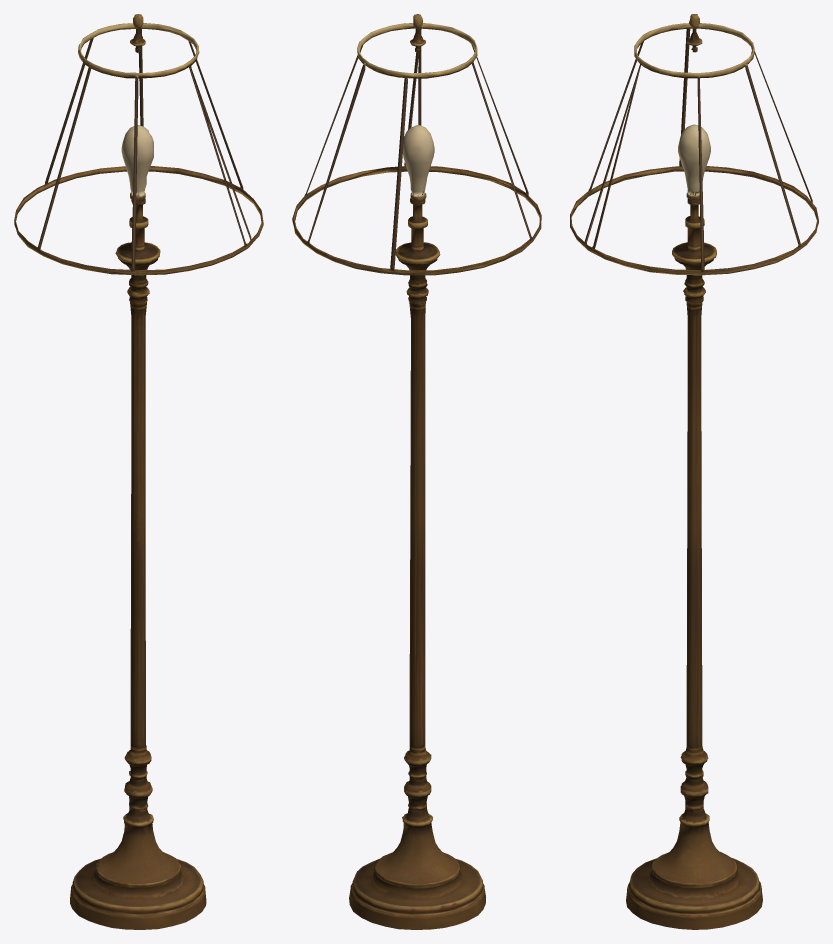
The model's file is lighting-floor-lamp.glb.
The picture shows the model from 3 angles, left to right: view 1: azimuth 30°, elevation 25°; view 2: azimuth 150°, elevation 25°; view 3: azimuth 270°, elevation 25°; orthographic projection.
Visible parts, largest first — view 1: tripo_node_2b5f716a-9754-48d9-8635-2f9ccf451003; view 2: tripo_node_2b5f716a-9754-48d9-8635-2f9ccf451003; view 3: tripo_node_2b5f716a-9754-48d9-8635-2f9ccf451003.
Part boxes in pixels (left/top/right/bottom): tripo_node_2b5f716a-9754-48d9-8635-2f9ccf451003: left=14, top=14, right=263, bottom=929; tripo_node_2b5f716a-9754-48d9-8635-2f9ccf451003: left=292, top=14, right=541, bottom=929; tripo_node_2b5f716a-9754-48d9-8635-2f9ccf451003: left=570, top=14, right=818, bottom=929.
Bounding box in the file's own units: 0.42 × 1.65 × 0.42.
Materials: 1 (1 with a texture image).
